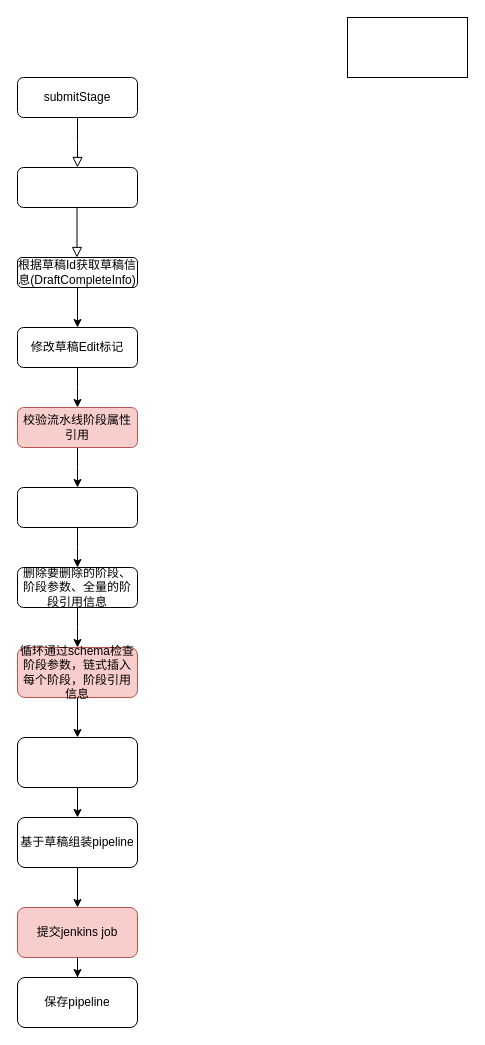
The diagram is 485 pixels wide and 1045 high, and some of its shapes have lost their labels. The centre of each missing label's shape, as x and y in pixels:
"提交草稿" goes at (77,762).
"校验阶段命名规范" goes at (77,187).
"模板" goes at (407,47).
"获取删除的阶段和阶段参数" goes at (77,507).
